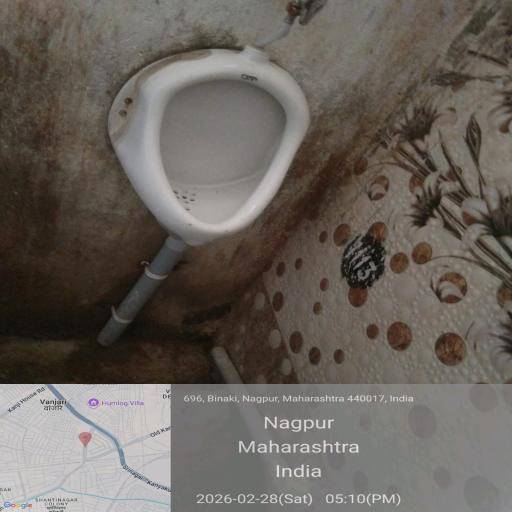clean_urinal: (90, 32, 344, 281)
partial_dirty_floor: (27, 292, 512, 512)
